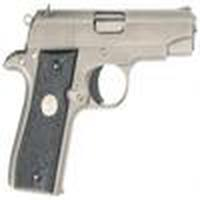gun: (4, 5, 200, 196)
